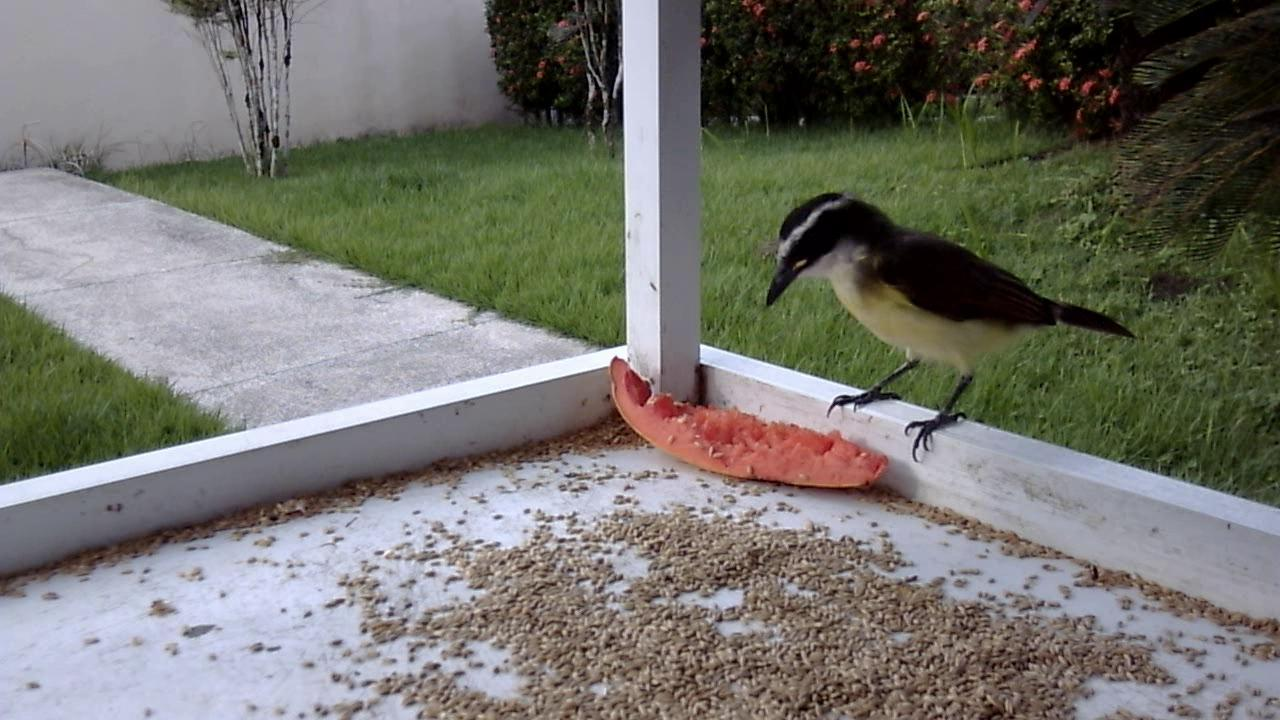bem_te_vi: (755, 175, 1144, 477)
